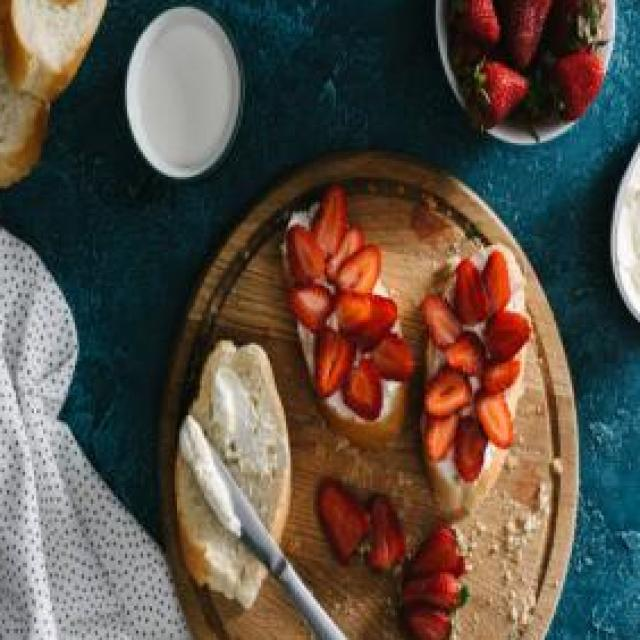knife: (175, 408, 348, 640)
